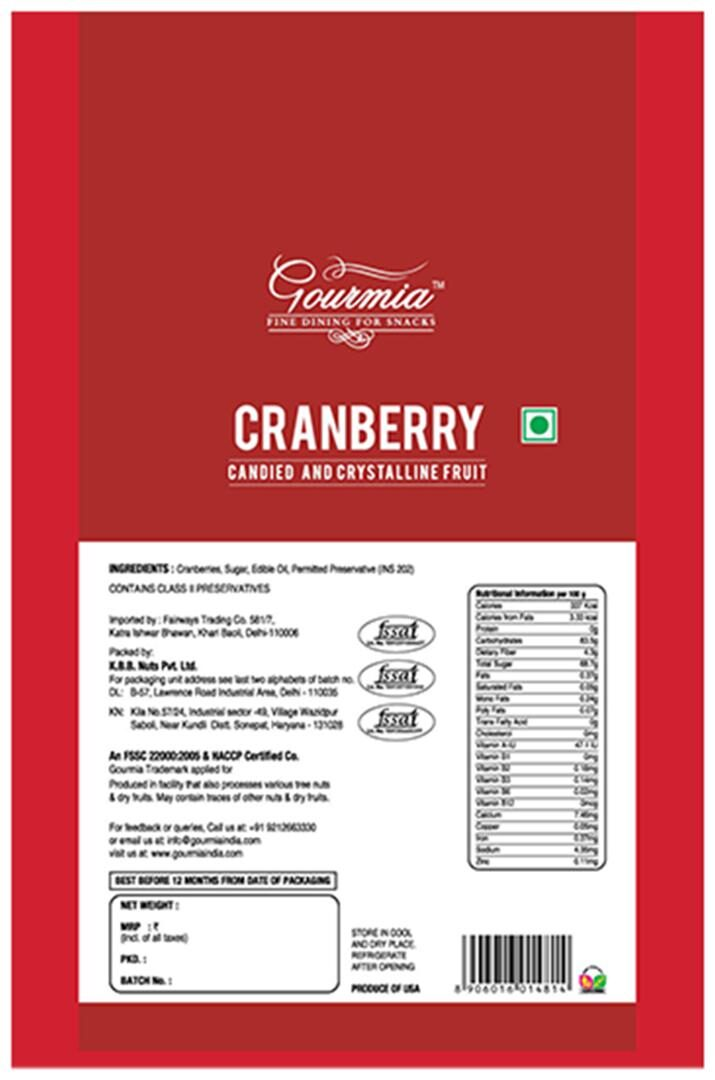fsaai: (374, 619, 420, 639), (375, 708, 421, 728), (375, 664, 421, 682)
